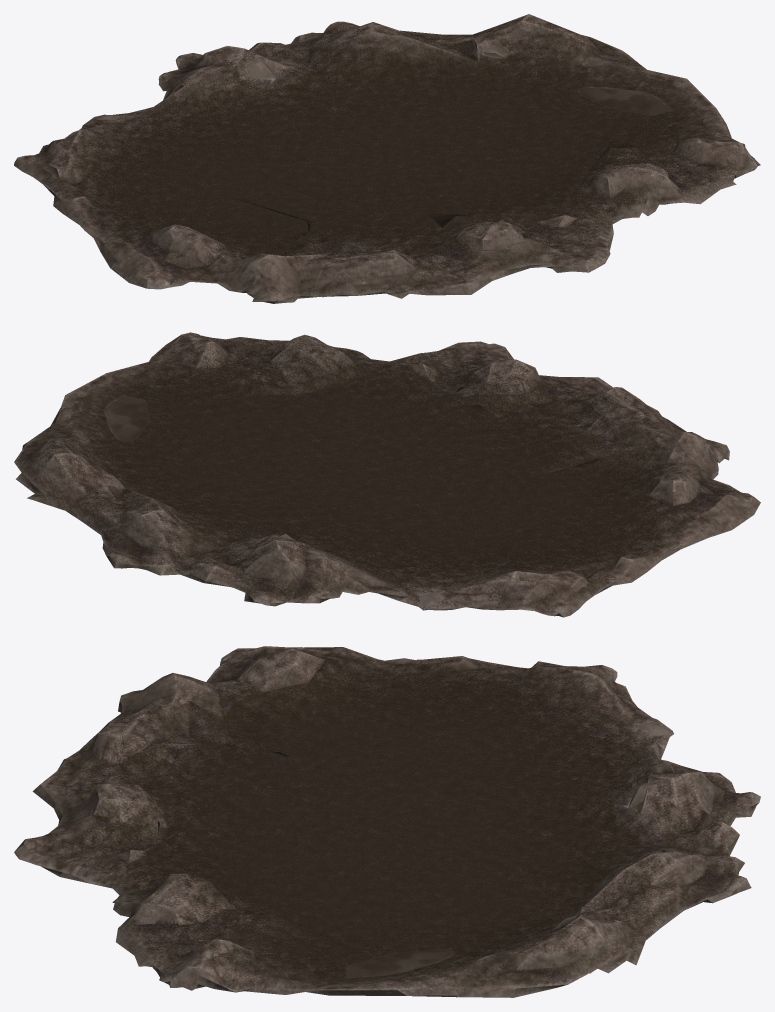
3 renders of one model, top to bottom at view 1: azimuth 30°, elevation 25°; view 2: azimuth 150°, elevation 25°; view 3: azimuth 270°, elevation 25°, orthographic. The views are drawn at different scales.
Parts seen in each view (by area): view 1: m20.glb; view 2: m20.glb; view 3: m20.glb.
Part boxes in pixels (x1,y1,x2,y2): m20.glb: (14, 14, 760, 303); m20.glb: (14, 332, 760, 617); m20.glb: (14, 646, 760, 997).
Bounding box in the file's own units: 1.83 × 0.098 × 1.65.
1 material, 1 textured.
